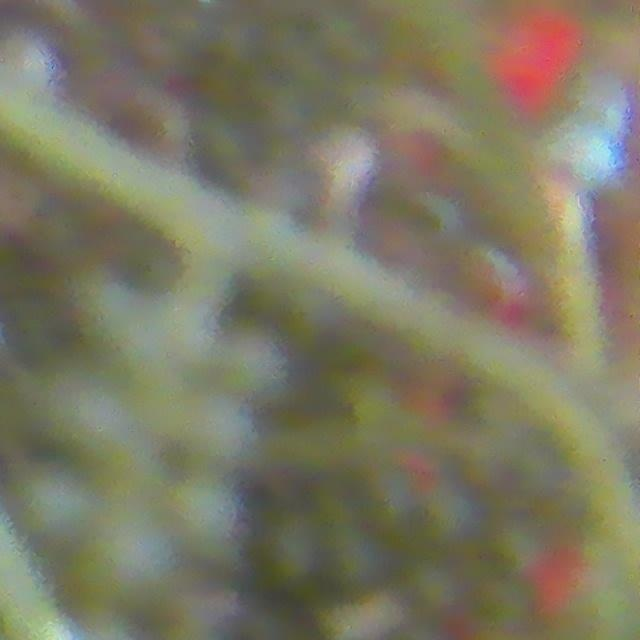SeaGrape: (76, 510, 173, 613), (210, 320, 290, 413), (169, 476, 249, 561), (83, 272, 159, 356), (54, 371, 127, 454), (180, 391, 257, 469), (20, 468, 86, 535)
